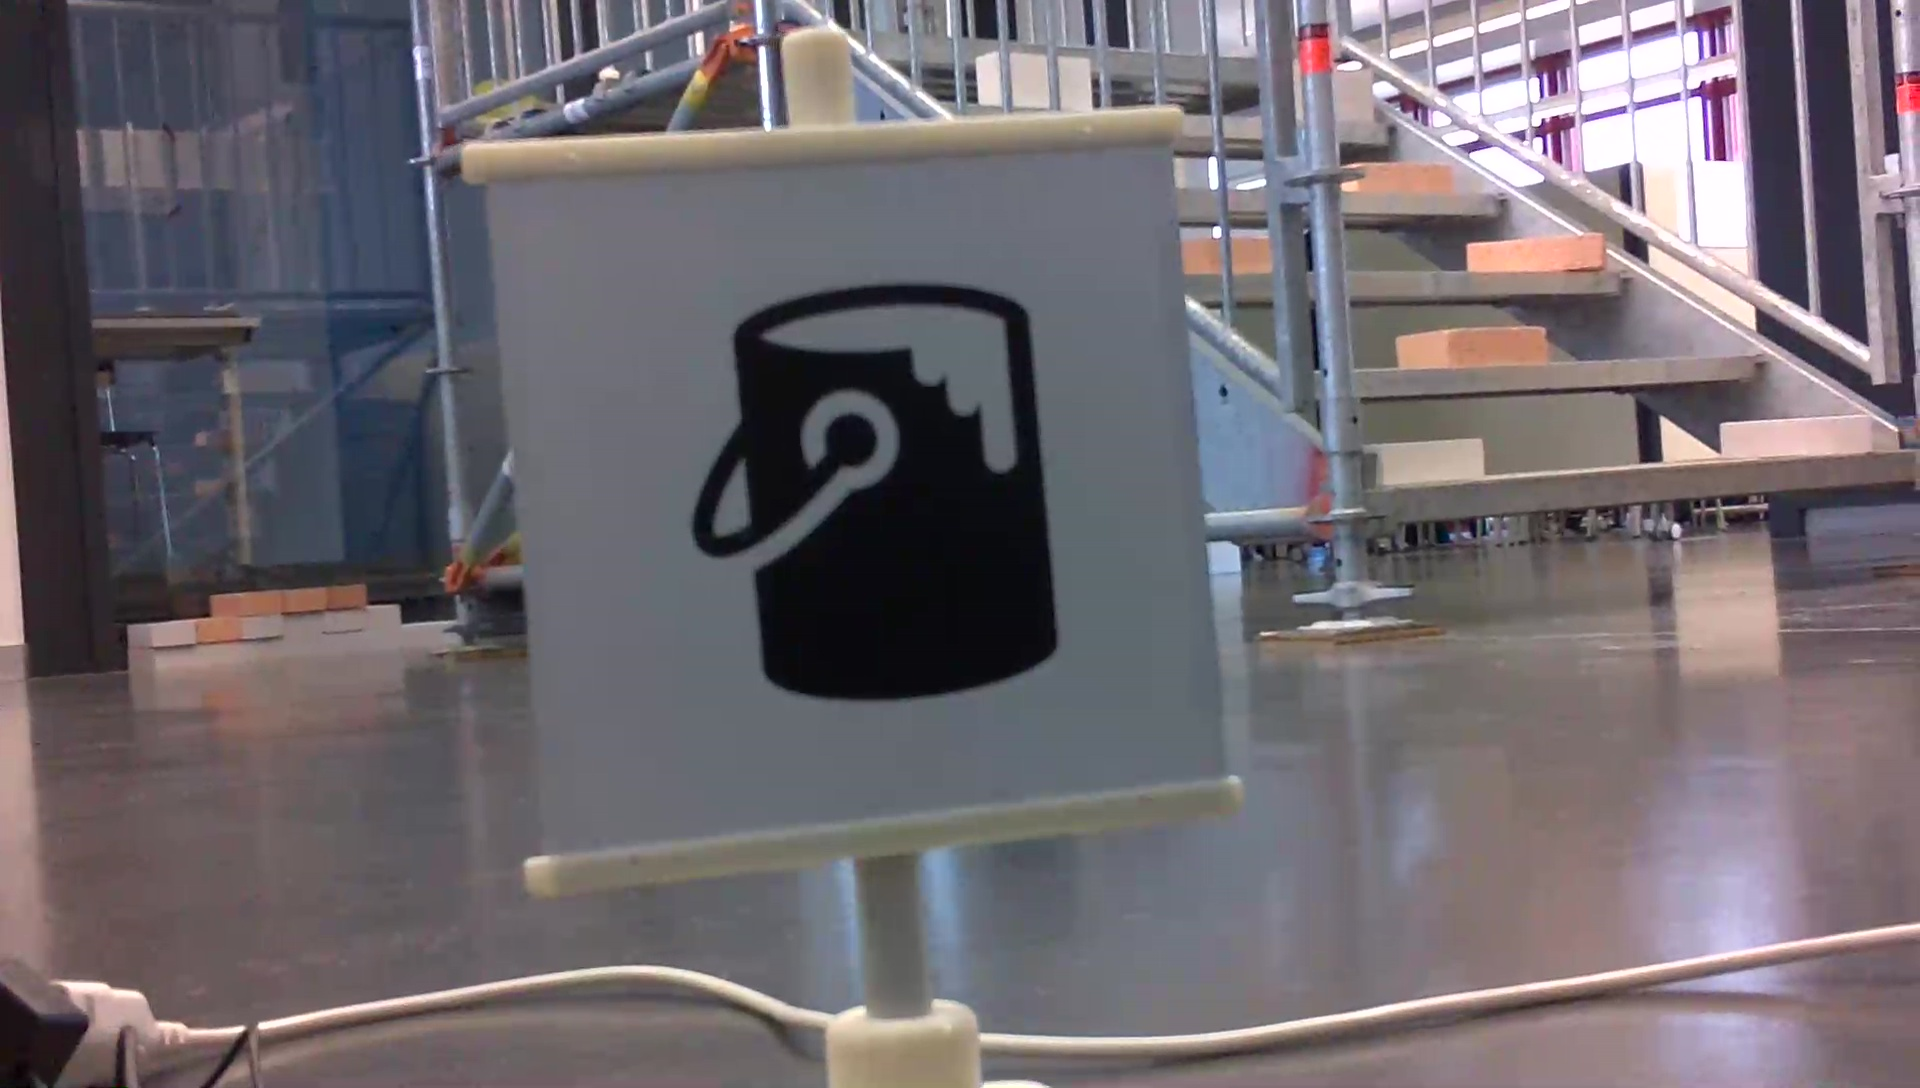brick: (1398, 327, 1543, 368), (1721, 415, 1867, 454), (1468, 233, 1602, 274), (1385, 440, 1480, 480), (1342, 162, 1451, 193), (1332, 70, 1370, 120)
bucket: (673, 274, 1065, 712)
edge: (1379, 455, 1913, 513), (1352, 359, 1768, 393)
